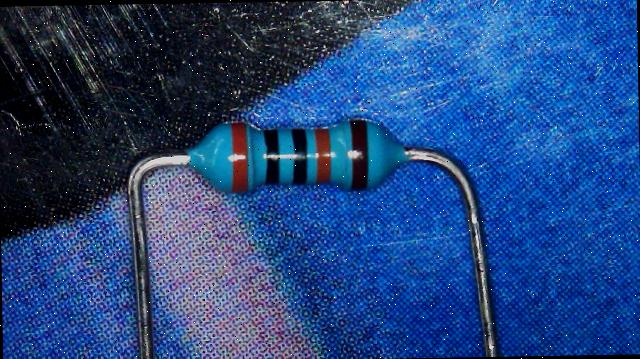black: (291, 127, 308, 182), (264, 130, 280, 182)
brown: (349, 119, 368, 190)
orange: (231, 121, 249, 190), (314, 126, 332, 182)
resistor: (182, 110, 416, 201)
